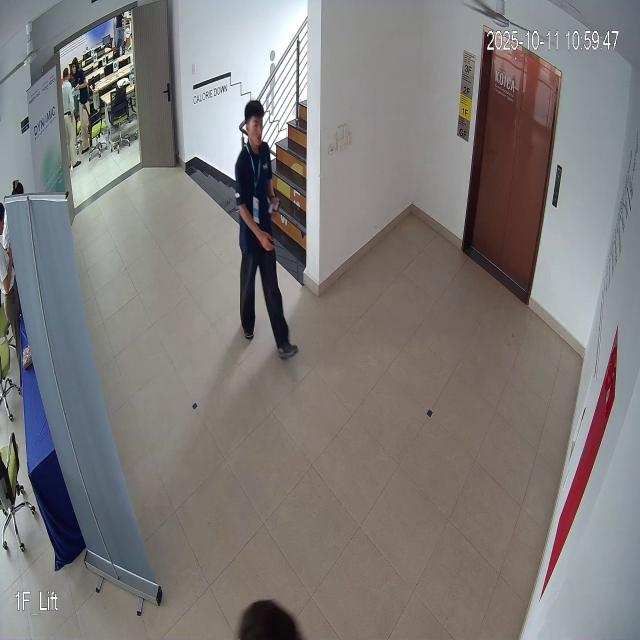face: (240, 84, 270, 154)
